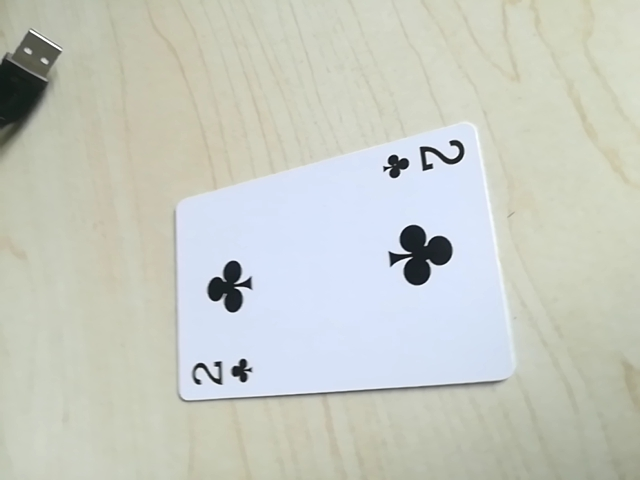mh 2: (377, 135, 471, 184), (186, 353, 260, 397)
